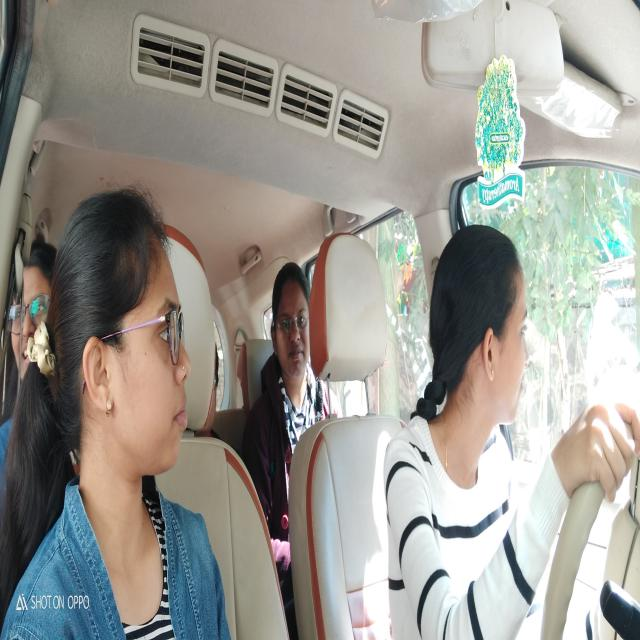LeftRight: (431, 222, 530, 440)
person: (53, 184, 190, 488), (7, 231, 56, 394), (268, 259, 312, 397), (199, 344, 219, 437)
